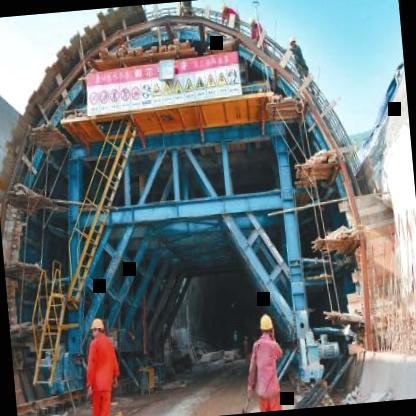helmet: (257, 310, 275, 342), (90, 314, 106, 340)
